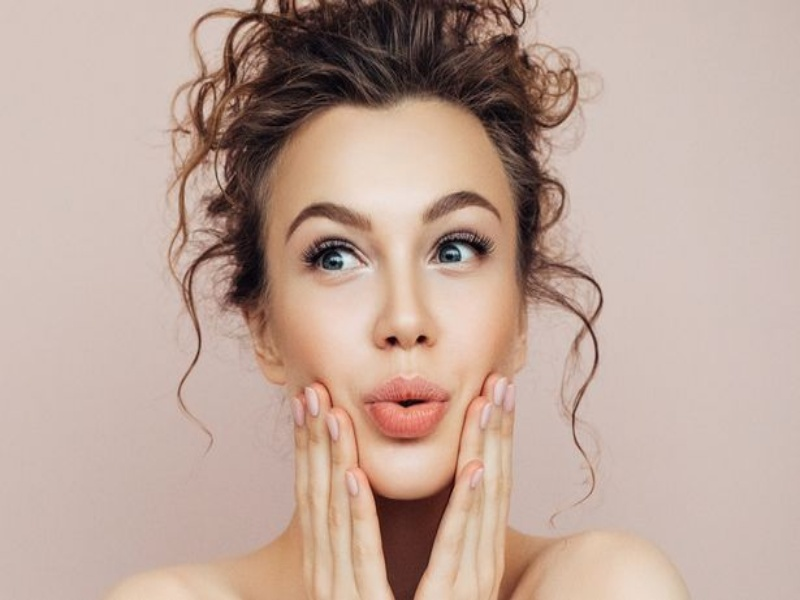face: (271, 137, 519, 452)
